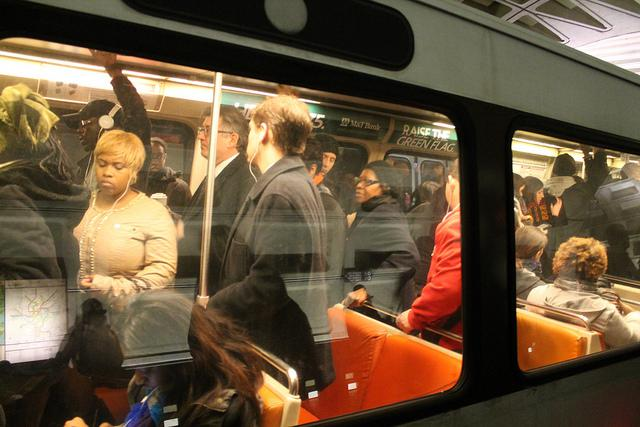Train: (2, 2, 640, 422)
